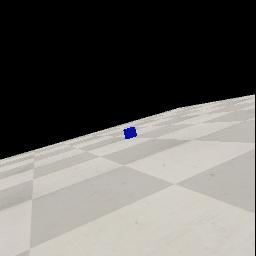box: (123, 127, 137, 139)
